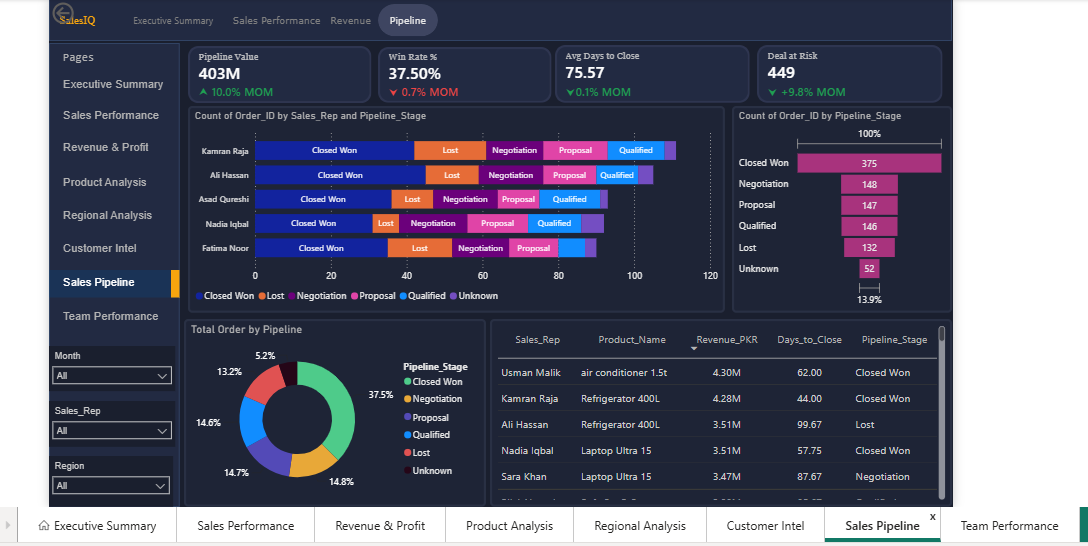

This screenshot's page, from the dashboard's own definition file:
{"tool":"powerbi","page":{"name":"Sales Pipeline","canvas":[1280,720],"ordinal":6},"visuals":[{"type":"shape","box":[0,0,1279.8,59.5],"z":0,"group":"g9"},{"type":"shape","box":[0,62,185,657.6],"z":0,"group":"g7"},{"type":"cardVisual","title":"Total Revenue ","fields":{"Data":["Table1.1Win Rate %"]},"box":[466,68,246,79],"z":0},{"type":"actionButton","box":[0,103.3,185,39.4],"z":0,"group":"g1"},{"type":"actionButton","box":[0,146.7,185,39.4],"z":0,"group":"g2"},{"type":"actionButton","box":[0,192,186,37.3],"z":0,"group":"g3"},{"type":"actionButton","box":[0,242.2,185,39.4],"z":0,"group":"g4"},{"type":"actionButton","box":[0,289.4,185,39.4],"z":0,"group":"g5"},{"type":"actionButton","box":[0,336.2,185,39.4],"z":0,"group":"g6"},{"type":"actionButton","box":[0,383.7,185,39.4],"z":0,"group":"g10"},{"type":"actionButton","box":[0,431.3,185,39.4],"z":0,"group":"g8"},{"type":"actionButton","box":[109,6.9,134,45.8],"z":1000,"group":"g9"},{"type":"cardVisual","title":"Total Revenue ","fields":{"Data":["Table1.Total Revenue"]},"box":[197,66,260,81],"z":1000},{"type":"group","id":"g1","title":"Executive summary 1","box":[0,103.3,185,39.4],"z":1000,"group":"g7"},{"type":"shape","box":[173,383.7,12,39.4],"z":1000,"group":"g10"},{"type":"actionButton","box":[255,6.9,135,45.8],"z":2000,"group":"g9"},{"type":"cardVisual","title":"Total Revenue ","fields":{"Data":["Table1.Deal at Risk"]},"box":[1003,65,263,82.2],"z":2000},{"type":"group","id":"g2","title":"Executive summary 1","box":[0,146.7,185,39.4],"z":2000,"group":"g7"},{"type":"actionButton","box":[390,6.9,76,45.8],"z":3000,"group":"g9"},{"type":"cardVisual","title":"Total Revenue ","fields":{"Data":["Table1.Avg Days to Close"]},"box":[717,65.2,276.4,82.2],"z":3000},{"type":"group","id":"g3","title":"Executive summary 1","box":[0,192,186,37.3],"z":3000,"group":"g7"},{"type":"slicer","fields":{"Values":["Table1.Region"]},"box":[1097,3,172.9,48.2],"z":4000},{"type":"actionButton","box":[465.9,6.9,85,45.8],"z":4000,"group":"g9"},{"type":"group","id":"g4","title":"Executive summary 1","box":[0,242.2,185,39.4],"z":4000,"group":"g7"},{"type":"slicer","fields":{"Values":["Table1.Product_Category"]},"box":[914.2,3,172.9,49.6],"z":5000},{"type":"group","id":"g5","title":"Executive summary 1","box":[0,289.4,185,39.4],"z":5000,"group":"g7"},{"type":"slicer","fields":{"Values":["Calendar.Month"]},"box":[725.7,3,172.9,49.6],"z":6000},{"type":"group","id":"g6","title":"Executive summary 1","box":[0,336.2,185,39.4],"z":6000,"group":"g7"},{"type":"group","id":"g7","title":"1 side bar","box":[0,62,186,657.6],"z":7000},{"type":"group","id":"g8","title":"Executive summary 1","box":[0,431.3,185,39.4],"z":7000,"group":"g7"},{"type":"group","id":"g9","title":"1 Header","box":[0,0,1280,59.1],"z":8000},{"type":"group","id":"g10","title":"Executive summary 1","box":[0,383.7,185,39.4],"z":8000,"group":"g7"},{"type":"slicer","fields":{"Values":["Calendar.Month"]},"box":[0,491.8,178.6,63.8],"z":9000},{"type":"slicer","fields":{"Values":["Table1.Region"]},"box":[0,647.7,175.7,72.3],"z":10000},{"type":"actionButton","box":[0,0,100,40],"z":11000},{"type":"funnel","fields":{"Category":["Table1.Pipeline_Stage"],"Y":["CountNonNull(Table1.Order_ID)"]},"box":[968,151.7,311.8,293.4],"z":12000},{"type":"barChart","fields":{"Series":["Table1.Pipeline_Stage"],"Y":["CountNonNull(Table1.Order_ID)"],"Category":["Table1.Sales_Rep"]},"box":[197,151.7,761.1,293.4],"z":13000},{"type":"donutChart","title":"Total Order by Pipeline","fields":{"Category":["Table1.Pipeline_Stage"],"Y":["CountNonNull(Table1.Order_ID)"]},"box":[191.3,453.5,428,266.5],"z":14000},{"type":"tableEx","fields":{"Values":["Table1.Sales_Rep","Table1.Product_Name","Sum(Table1.Revenue_PKR)","Avg(Table1.Days_to_Close)","Table1.Pipeline_Stage"]},"box":[625,453.5,654.8,266.5],"z":15000},{"type":"slicer","fields":{"Values":["Table1.Sales_Rep"]},"box":[0,569.8,178.6,65.2],"z":16000}]}

Visuals, with their boxes on the page's 1280x720 design canvas (x1, y1, x2, y2). These are canvas units, not pixel positions in the 1088x546 screenshot, which may show the page scaled, cropped or inside an application window:
shape: x1=0, y1=0, x2=1280, y2=60
shape: x1=0, y1=62, x2=185, y2=720
"Total Revenue " cardVisual: x1=466, y1=68, x2=712, y2=147
actionButton: x1=0, y1=103, x2=185, y2=143
actionButton: x1=0, y1=147, x2=185, y2=186
actionButton: x1=0, y1=192, x2=186, y2=229
actionButton: x1=0, y1=242, x2=185, y2=282
actionButton: x1=0, y1=289, x2=185, y2=329
actionButton: x1=0, y1=336, x2=185, y2=376
actionButton: x1=0, y1=384, x2=185, y2=423
actionButton: x1=0, y1=431, x2=185, y2=471
actionButton: x1=109, y1=7, x2=243, y2=53
"Total Revenue " cardVisual: x1=197, y1=66, x2=457, y2=147
"Executive summary 1" group: x1=0, y1=103, x2=185, y2=143
shape: x1=173, y1=384, x2=185, y2=423
actionButton: x1=255, y1=7, x2=390, y2=53
"Total Revenue " cardVisual: x1=1003, y1=65, x2=1266, y2=147
"Executive summary 1" group: x1=0, y1=147, x2=185, y2=186
actionButton: x1=390, y1=7, x2=466, y2=53
"Total Revenue " cardVisual: x1=717, y1=65, x2=993, y2=147
"Executive summary 1" group: x1=0, y1=192, x2=186, y2=229
slicer - Table1.Region: x1=1097, y1=3, x2=1270, y2=51
actionButton: x1=466, y1=7, x2=551, y2=53
"Executive summary 1" group: x1=0, y1=242, x2=185, y2=282
slicer - Table1.Product_Category: x1=914, y1=3, x2=1087, y2=53
"Executive summary 1" group: x1=0, y1=289, x2=185, y2=329
slicer - Calendar.Month: x1=726, y1=3, x2=899, y2=53
"Executive summary 1" group: x1=0, y1=336, x2=185, y2=376
"1 side bar" group: x1=0, y1=62, x2=186, y2=720
"Executive summary 1" group: x1=0, y1=431, x2=185, y2=471
"1 Header" group: x1=0, y1=0, x2=1280, y2=59
"Executive summary 1" group: x1=0, y1=384, x2=185, y2=423
slicer - Calendar.Month: x1=0, y1=492, x2=179, y2=556
slicer - Table1.Region: x1=0, y1=648, x2=176, y2=720
actionButton: x1=0, y1=0, x2=100, y2=40
funnel - Table1.Pipeline_Stage x CountNonNull(Table1.Order_ID): x1=968, y1=152, x2=1280, y2=445
barChart - Table1.Pipeline_Stage x CountNonNull(Table1.Order_ID): x1=197, y1=152, x2=958, y2=445
"Total Order by Pipeline" donutChart: x1=191, y1=454, x2=619, y2=720
tableEx - Table1.Sales_Rep x Table1.Product_Name: x1=625, y1=454, x2=1280, y2=720
slicer - Table1.Sales_Rep: x1=0, y1=570, x2=179, y2=635
